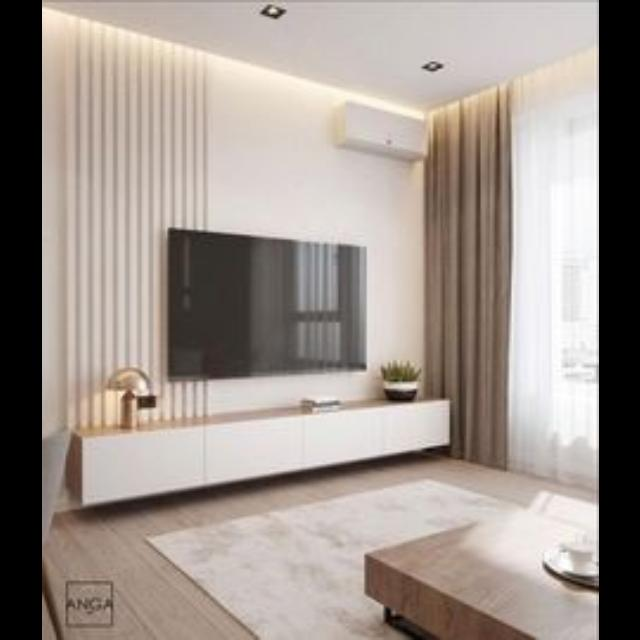Flat-Panel-TV: (145, 206, 413, 402)
